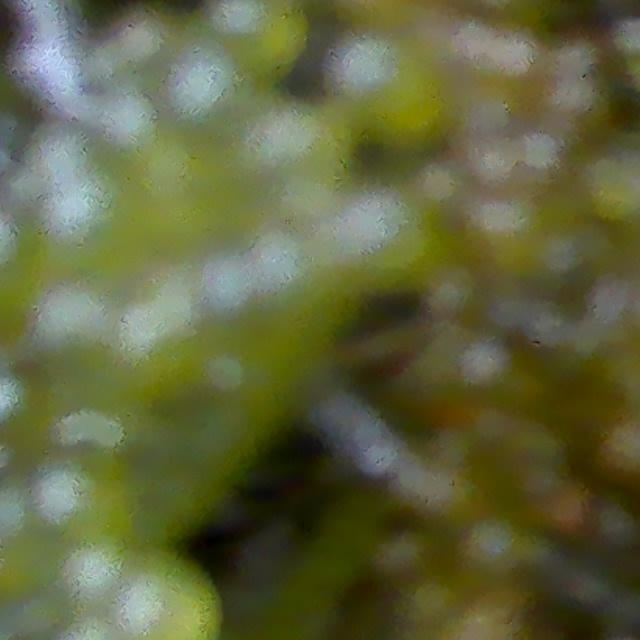SeaGrape: (113, 555, 218, 640), (31, 278, 122, 366), (163, 41, 245, 124), (246, 8, 311, 74), (95, 88, 159, 154), (198, 251, 258, 315), (208, 0, 271, 40)
